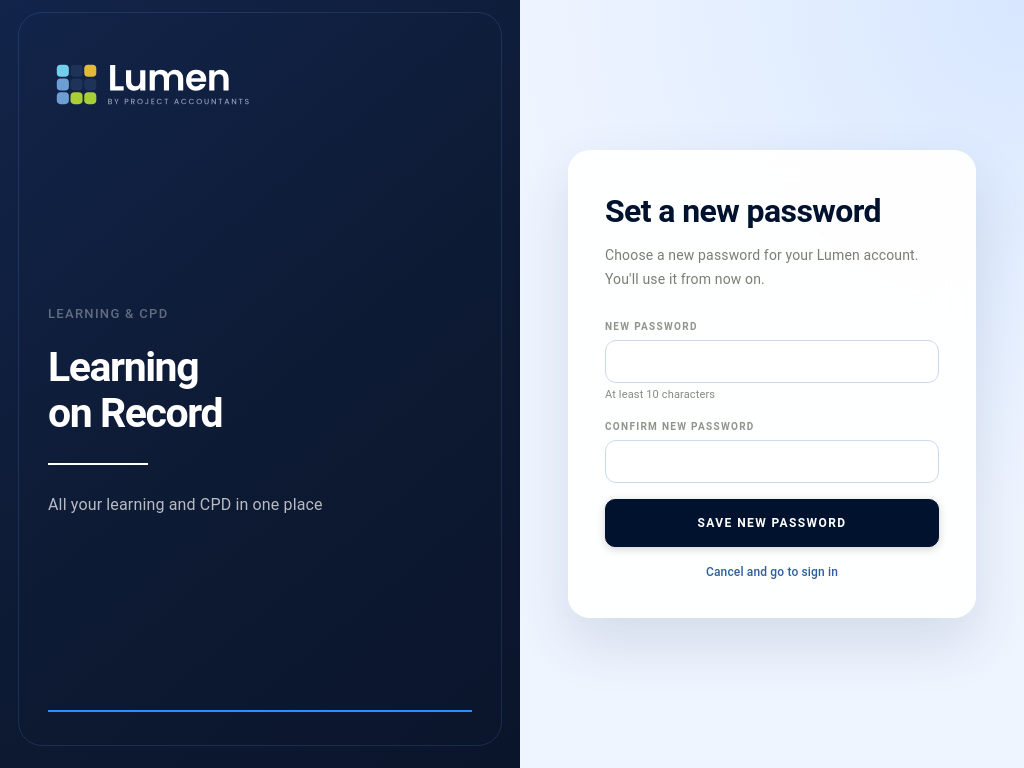
Test: Set a new password (from a reset link) › shows why saving failed (e.g. the link expired)
The image size is (1024, 768).
Type "a-brand-new-pass" into the password field labelled "New password" at (772,361), box x1=605 y1=340 x2=939 y2=383
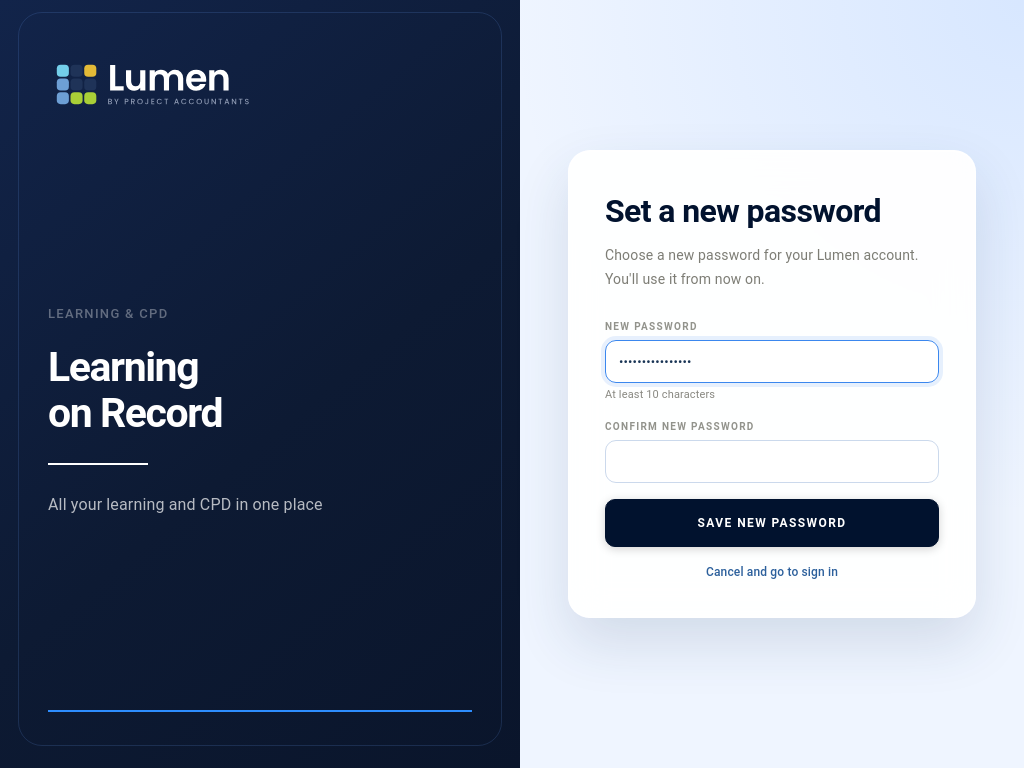
Type "a-brand-new-pass" into the password field labelled "Confirm new password" at (772,462), box x1=605 y1=440 x2=939 y2=483
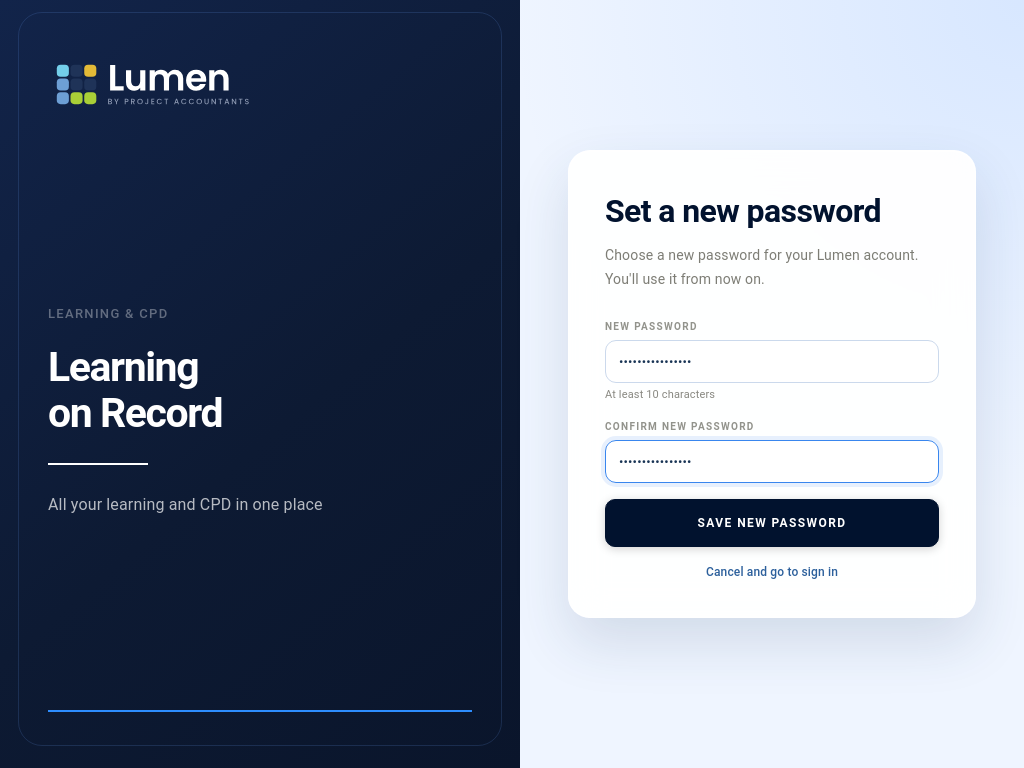
Click the button "Save new password" at (772,523), box x1=605 y1=499 x2=939 y2=547
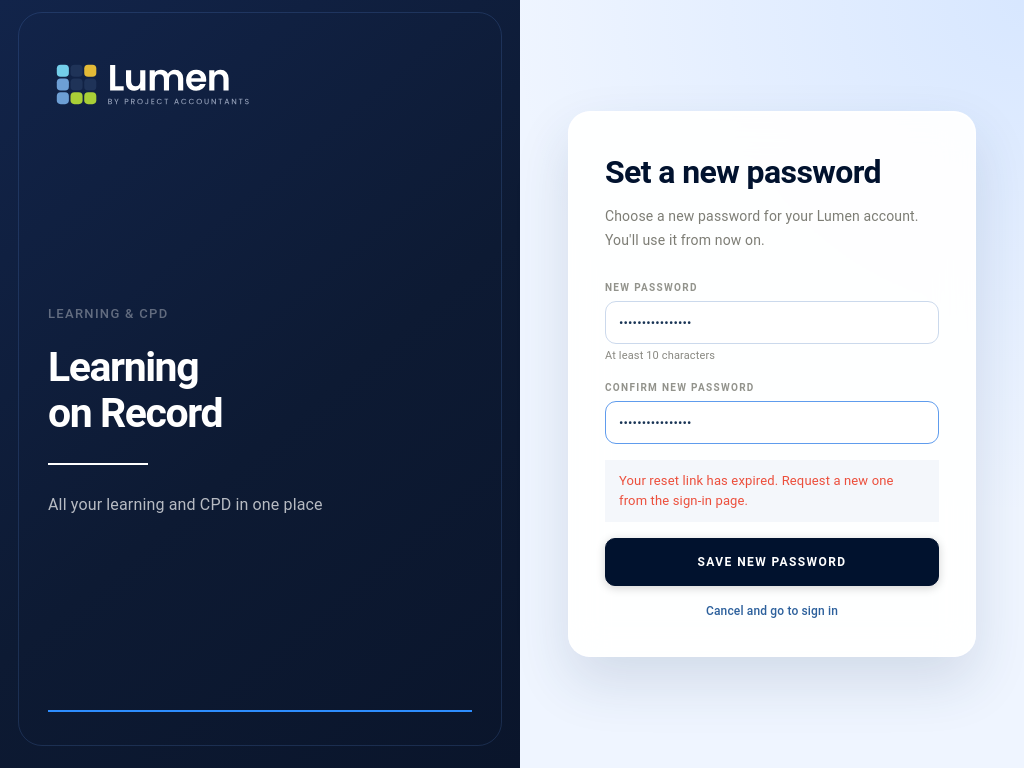
Expected: the message shows "has expired", x1=619 y1=473 x2=894 y2=508
